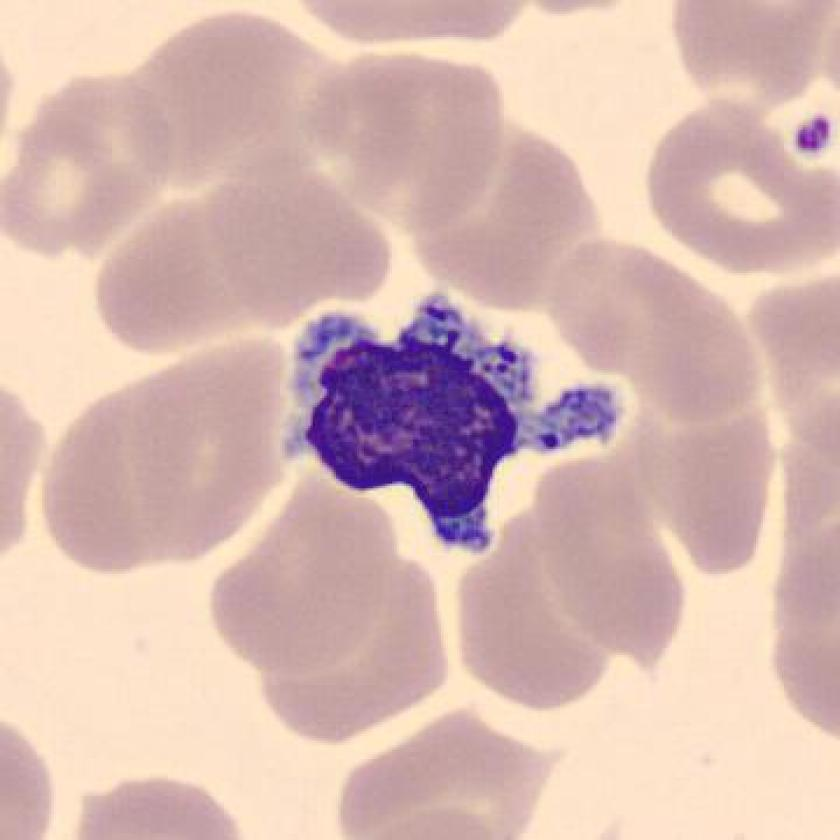lymphocyte: (274, 288, 636, 566)
